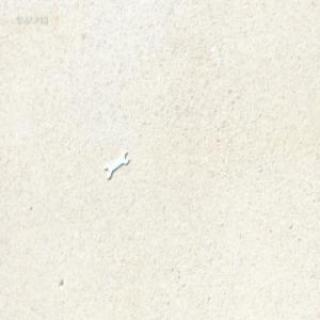Wrenchtrack_idkeyframe: (104, 146, 128, 176)
